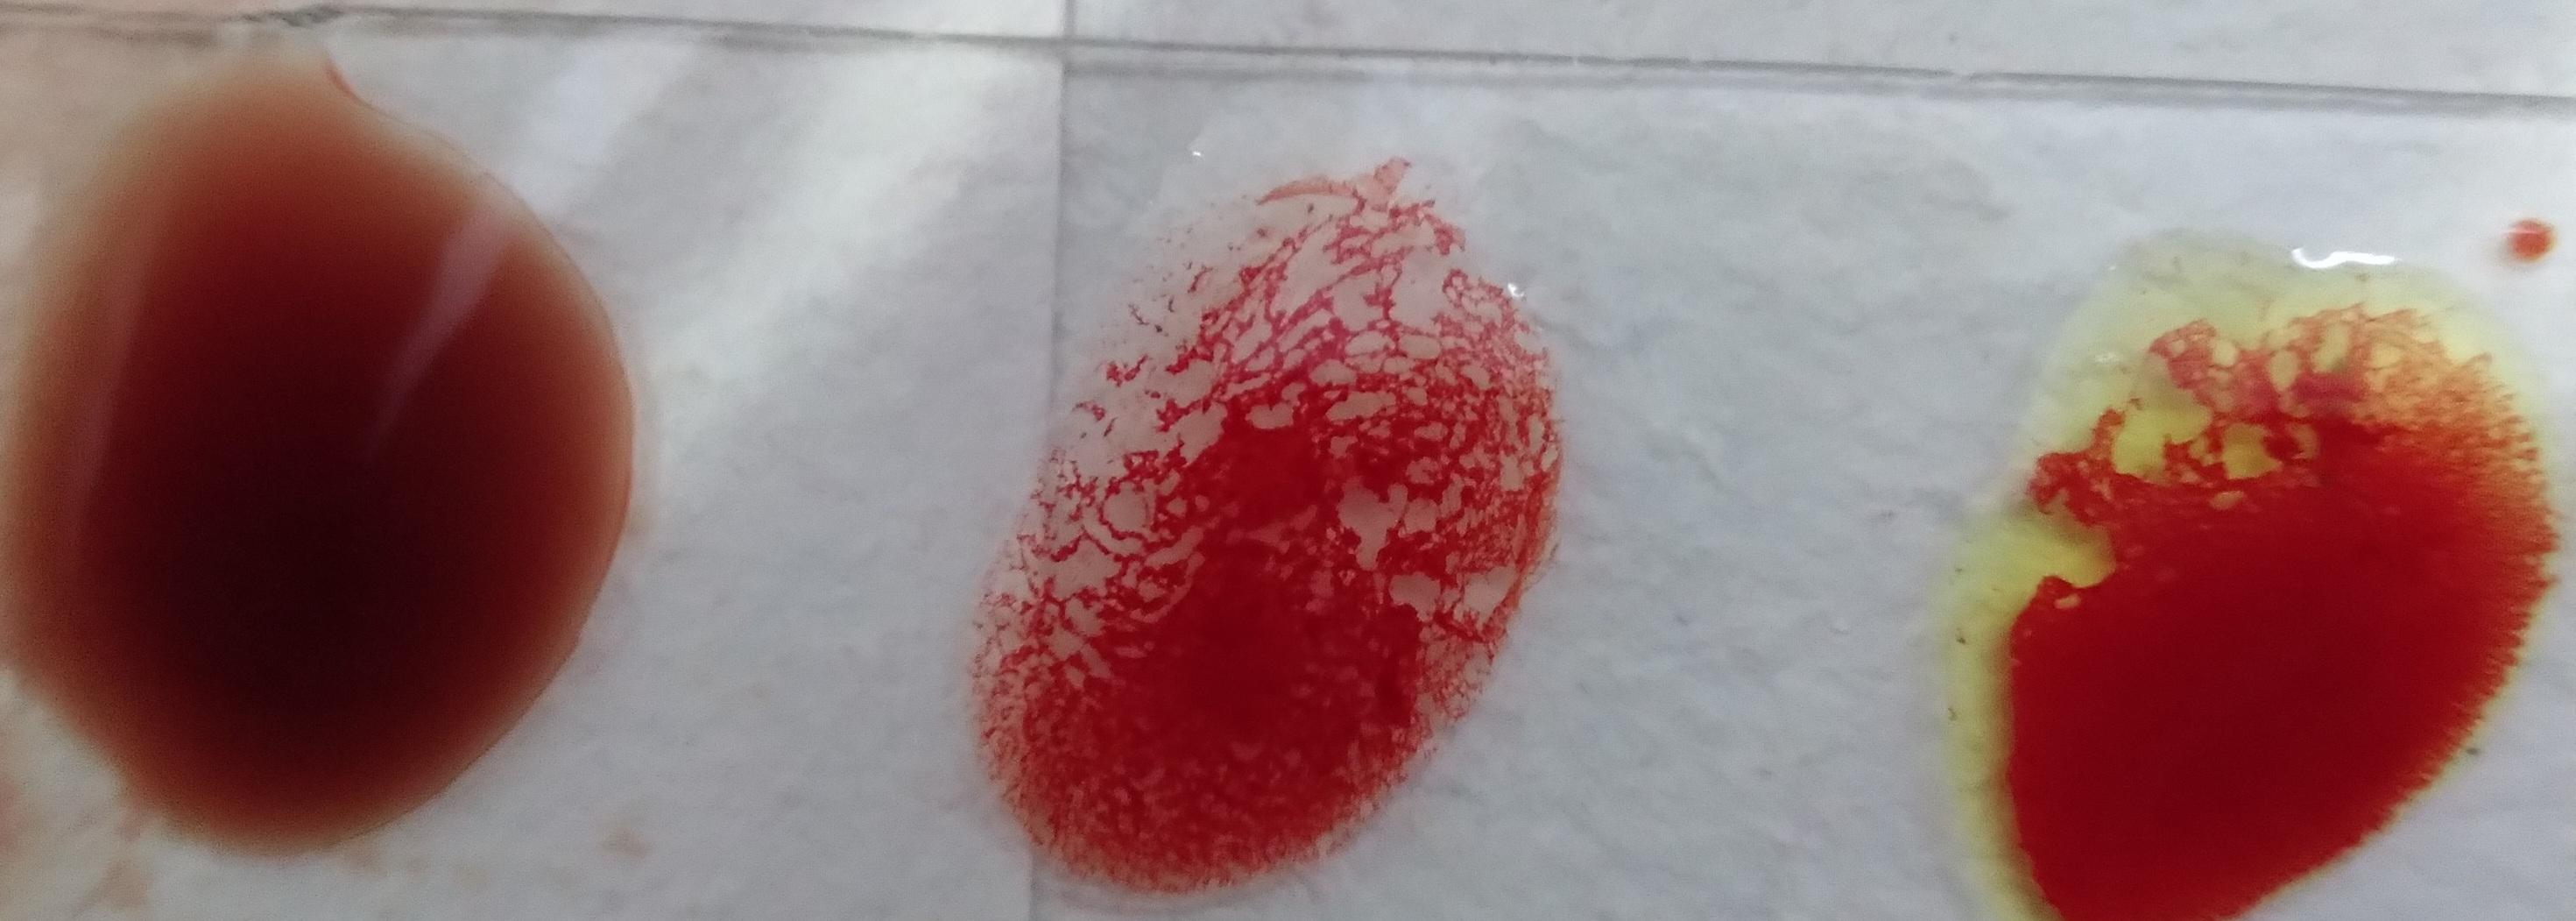B: (34, 7, 613, 692)
D: (1012, 15, 1617, 745)
